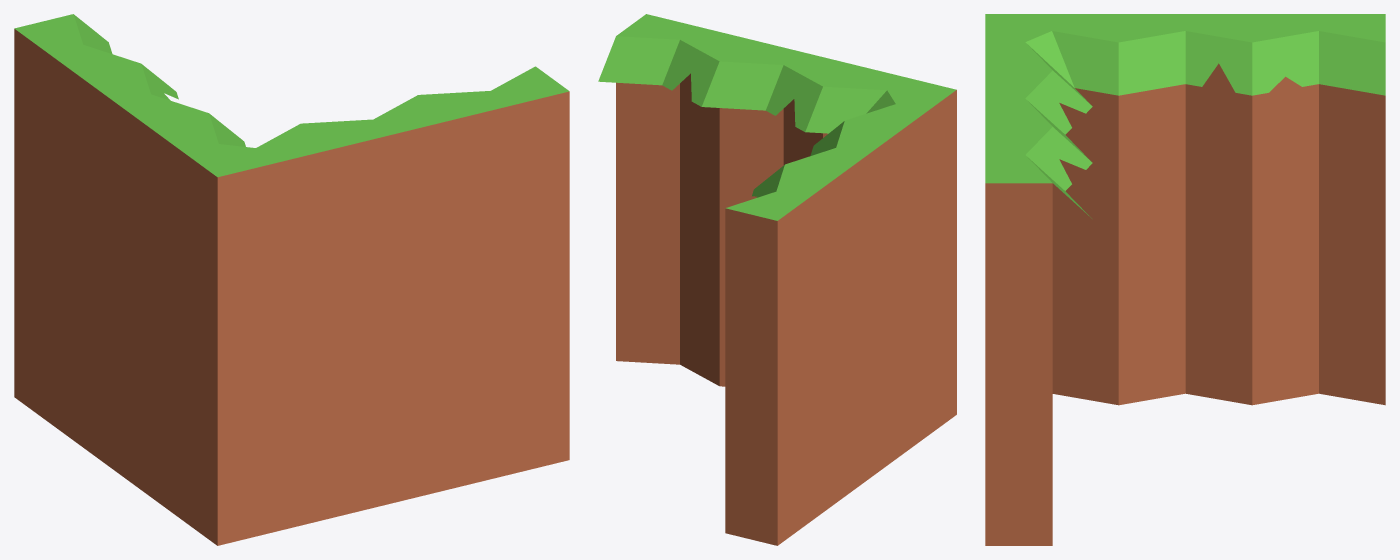
Rendered from cliff_cornerInnerTop_rock.glb.
The picture shows the model from 3 angles, left to right: view 1: azimuth 30°, elevation 25°; view 2: azimuth 150°, elevation 25°; view 3: azimuth 270°, elevation 25°; orthographic projection. The views are drawn at different scales.
Parts seen in each view (by area): view 1: cliff_cornerInnerTop_rock; view 2: cliff_cornerInnerTop_rock; view 3: cliff_cornerInnerTop_rock.
Boxes of the visible parts, x1,y1,x2,y2 form: cliff_cornerInnerTop_rock: (14, 14, 569, 545); cliff_cornerInnerTop_rock: (598, 14, 956, 545); cliff_cornerInnerTop_rock: (985, 14, 1385, 545).
Size of the model in its own units: 1 by 1 by 1.
